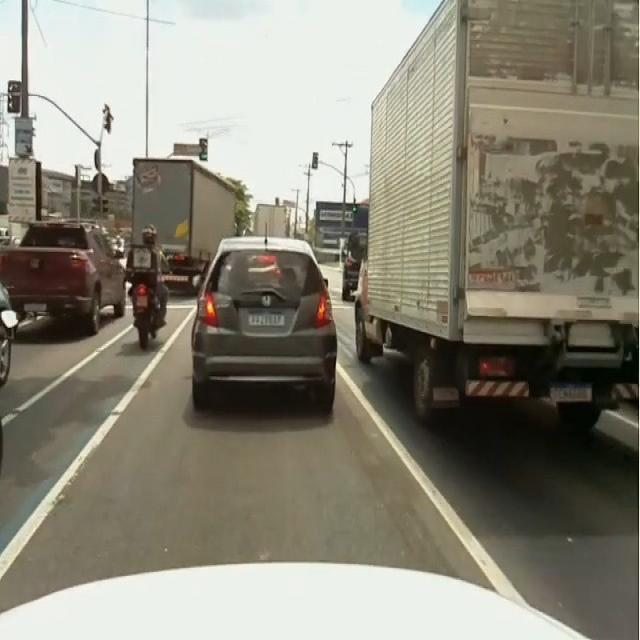car: (192, 238, 336, 411), (0, 224, 126, 333)
lorry: (356, 0, 640, 424), (131, 159, 235, 284)
motorcyclist: (128, 226, 168, 348)
